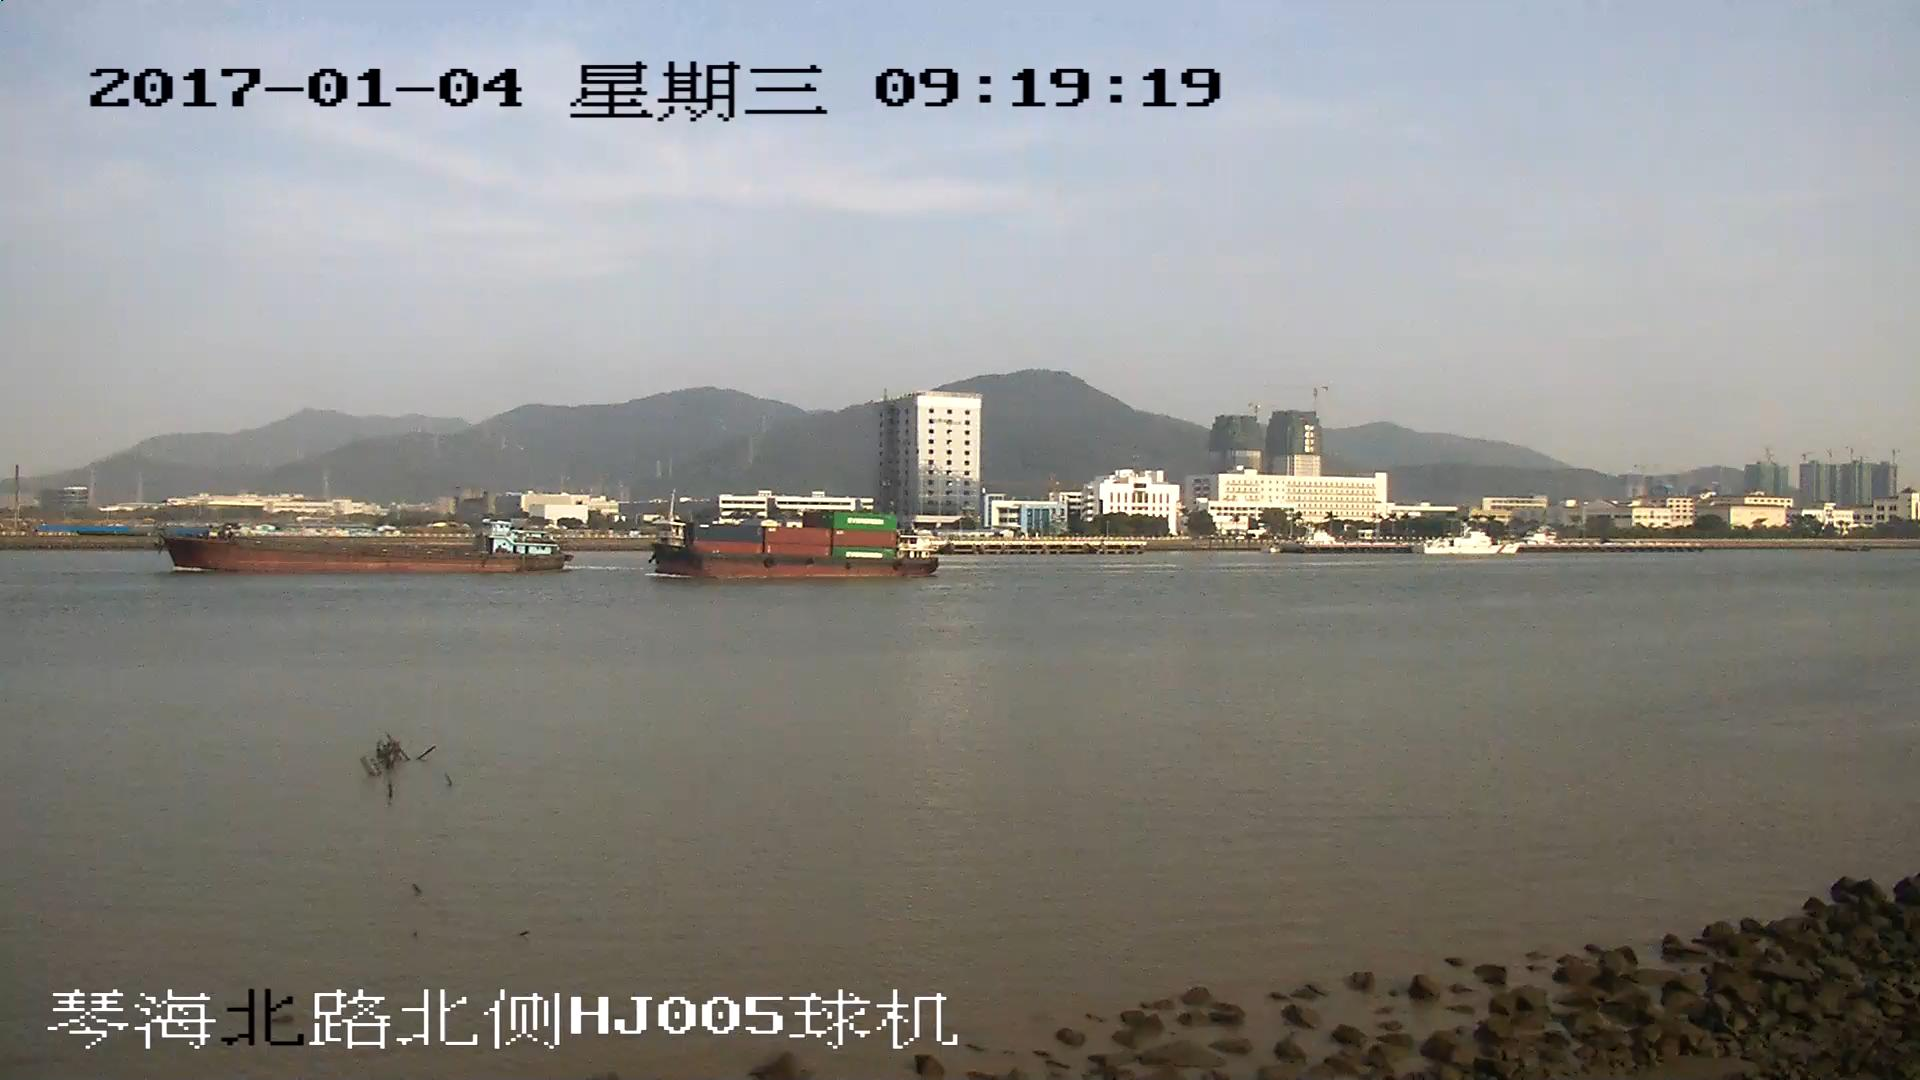bulk cargo carrier: (161, 517, 572, 572)
container ship: (651, 508, 942, 579)
